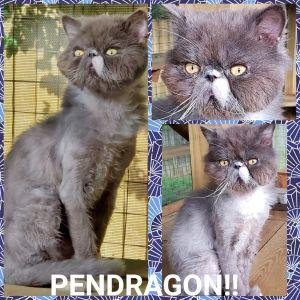persian: (59, 11, 148, 98)
